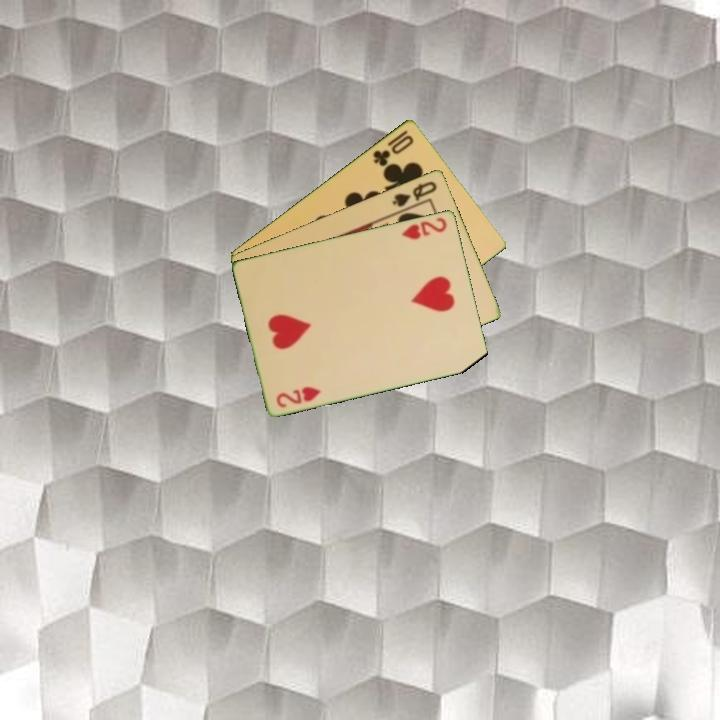10c: (369, 126, 417, 169)
2h: (398, 214, 450, 242), (273, 382, 324, 410)
Qs: (389, 177, 440, 209)
